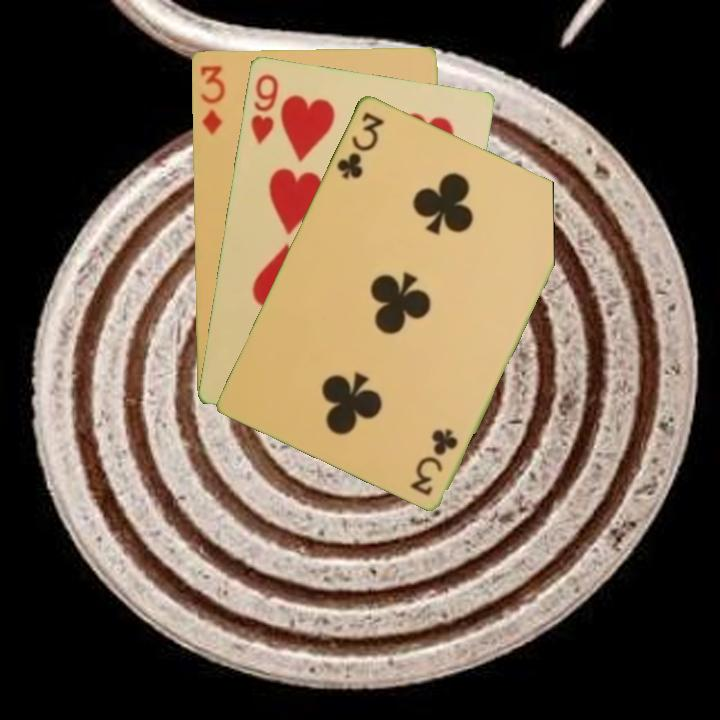3c: (332, 107, 387, 182), (407, 424, 461, 498)
3d: (196, 62, 228, 138)
9h: (247, 70, 281, 147)
